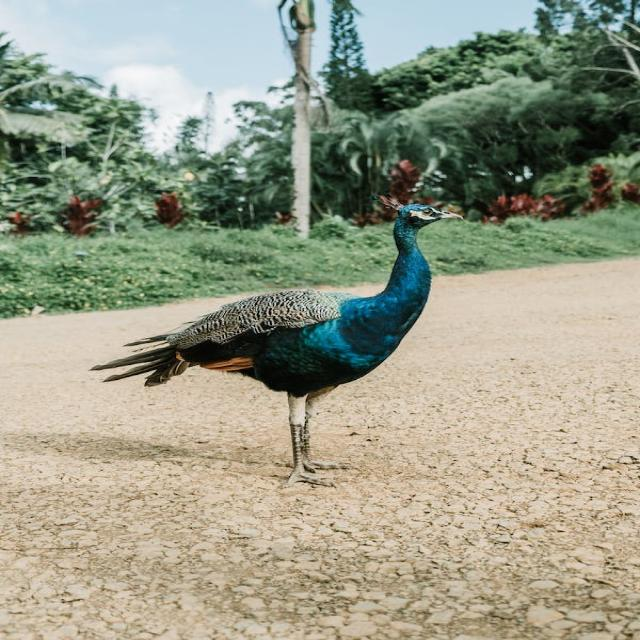peacock: (90, 194, 466, 486)
